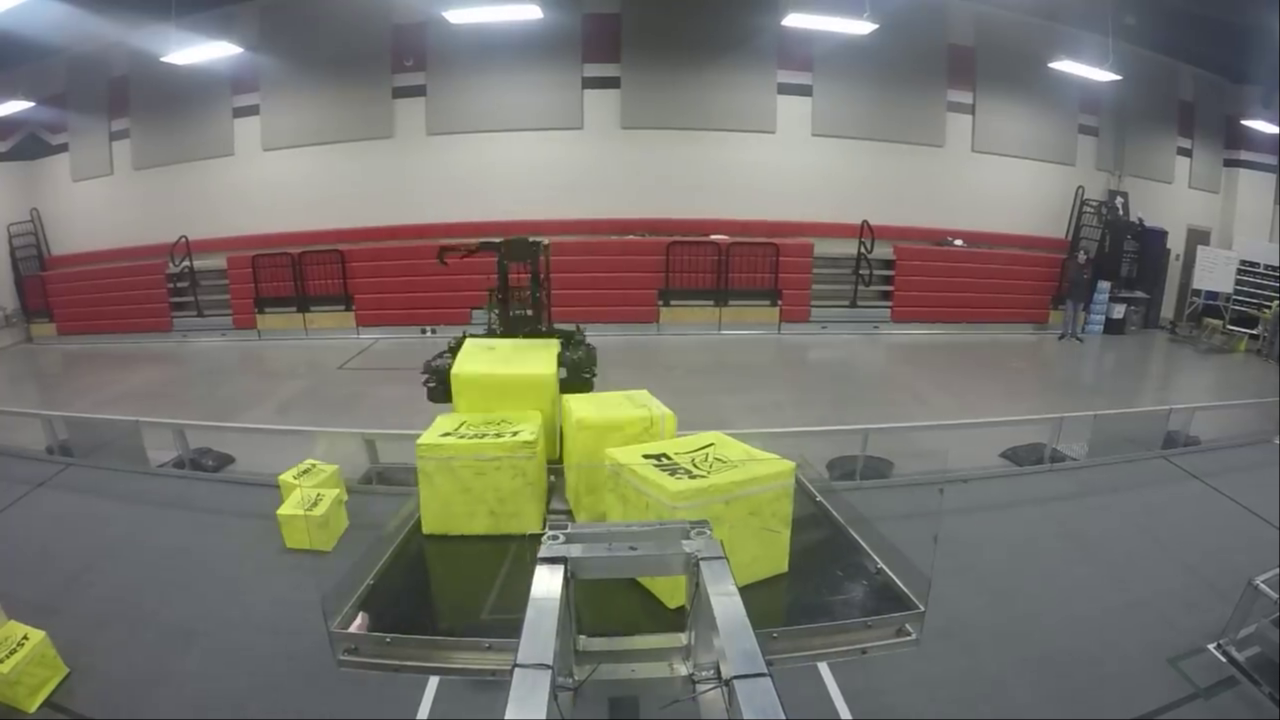cube: (606, 429, 795, 611), (562, 391, 681, 534), (414, 412, 545, 536), (449, 337, 563, 460), (1, 619, 69, 712), (277, 489, 348, 552), (278, 458, 349, 515)
